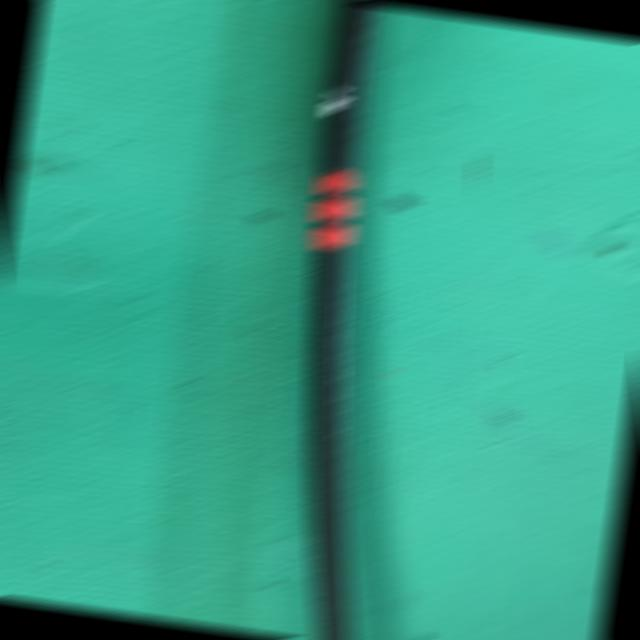red: (303, 172, 368, 250)
